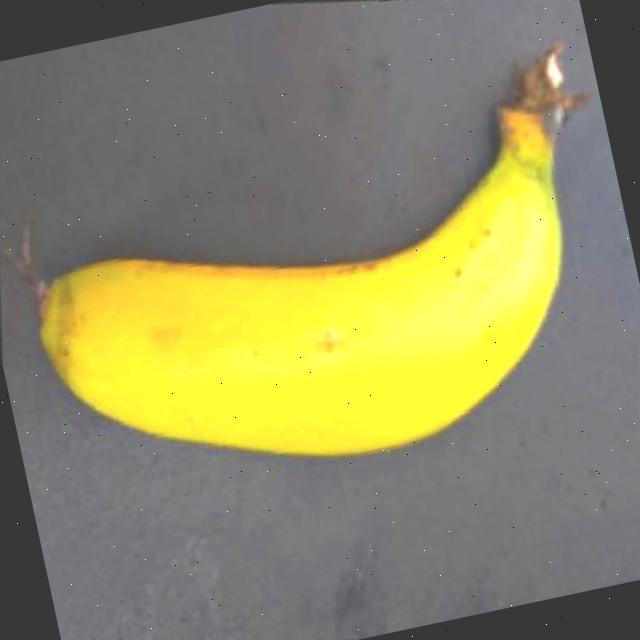Ripe: (0, 15, 640, 537)
